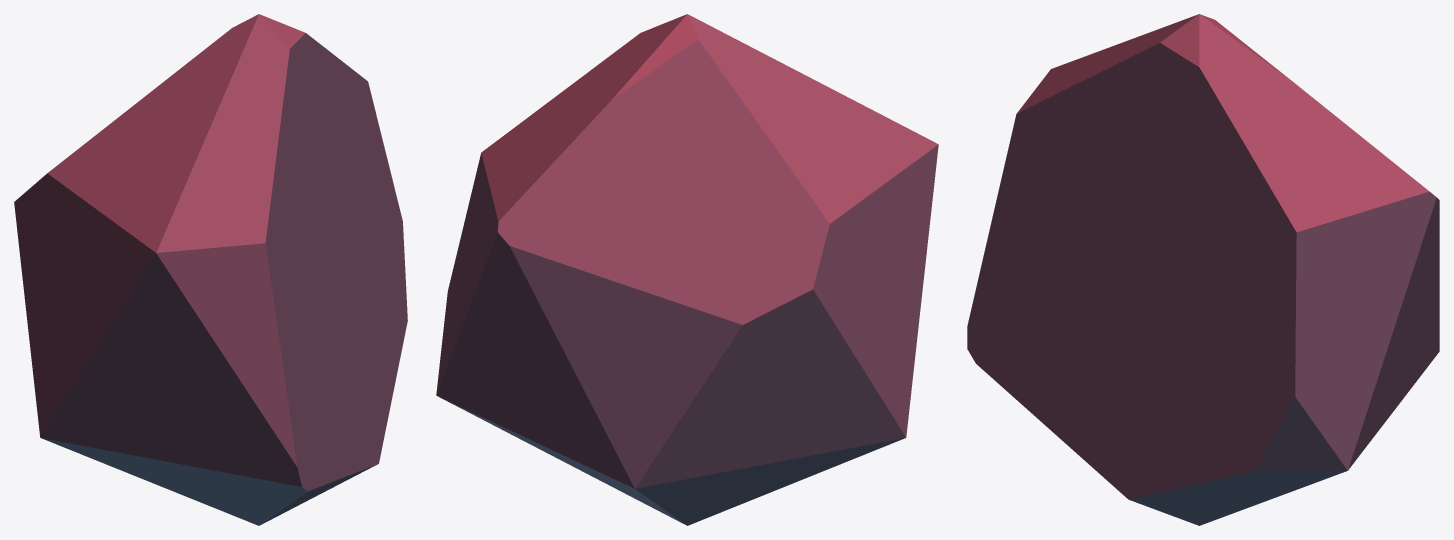
File: geology-crystals-gemstone_v9.glb
3 views of the same model, side by side, from view 1: azimuth 30°, elevation 25°; view 2: azimuth 150°, elevation 25°; view 3: azimuth 270°, elevation 25° (orthographic).
Visible parts, largest first — view 1: gemstone_v9; view 2: gemstone_v9; view 3: gemstone_v9.
Part boxes in pixels (<box>): gemstone_v9: <box>14,14,407,525</box>; gemstone_v9: <box>436,14,938,525</box>; gemstone_v9: <box>967,14,1439,525</box>.
Size of the model in its own units: 17.77 by 21.17 by 17.7.
